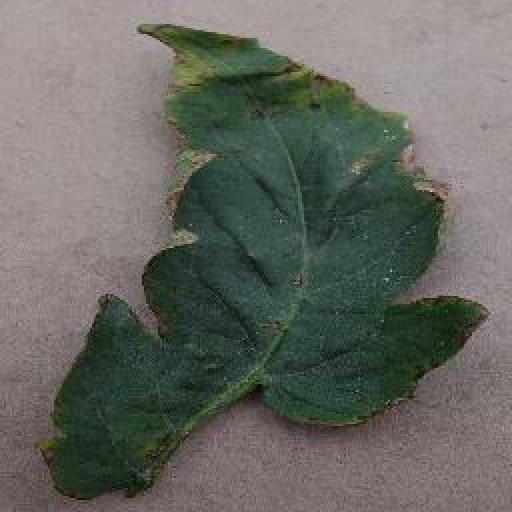Bacterial Spot: (31, 12, 499, 512)
